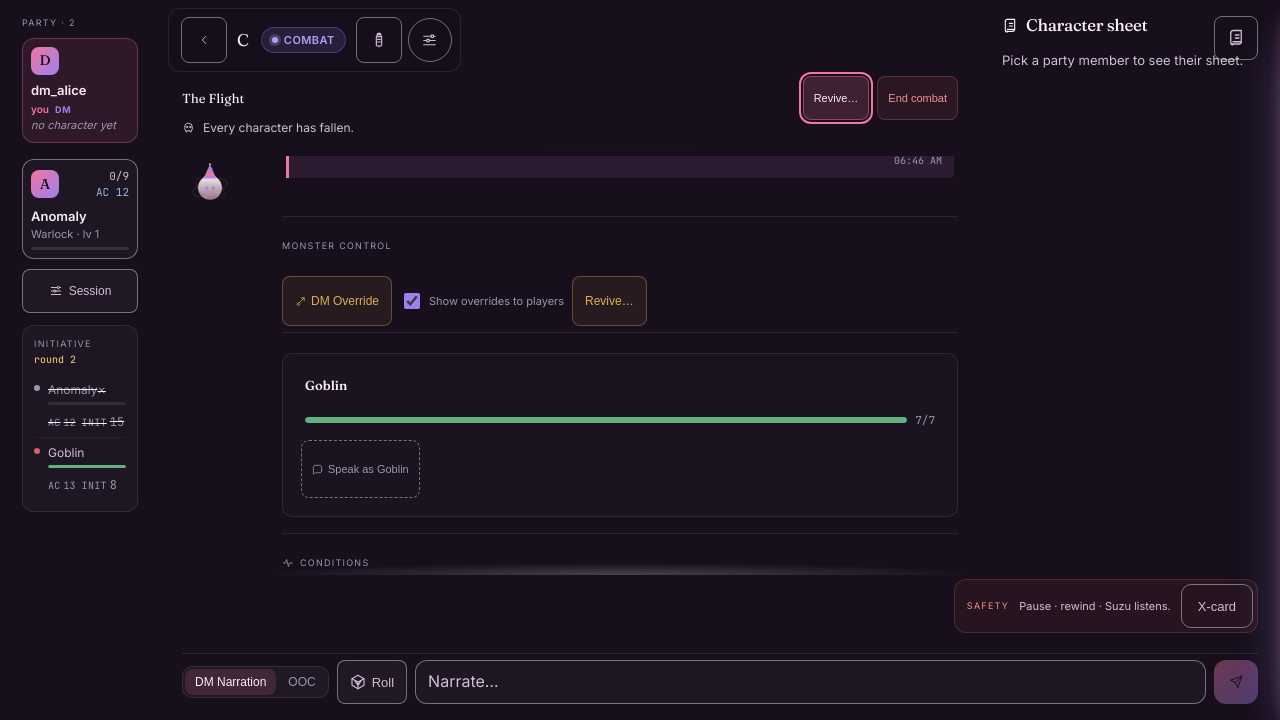
Test case: P5 the strip's Revive… opens Revive-only and returns focus to itself on Escape › opens one radio; Escape puts focus back on the strip's Revive…
(page scrolled)
Expected: the text "Every character has fallen." is shown, top-left (182, 120), bottom-right (354, 135)
Click the button "Revive…" in the row of "The Flight".
click(836, 98)  # box top-left (803, 76), bottom-right (869, 120)
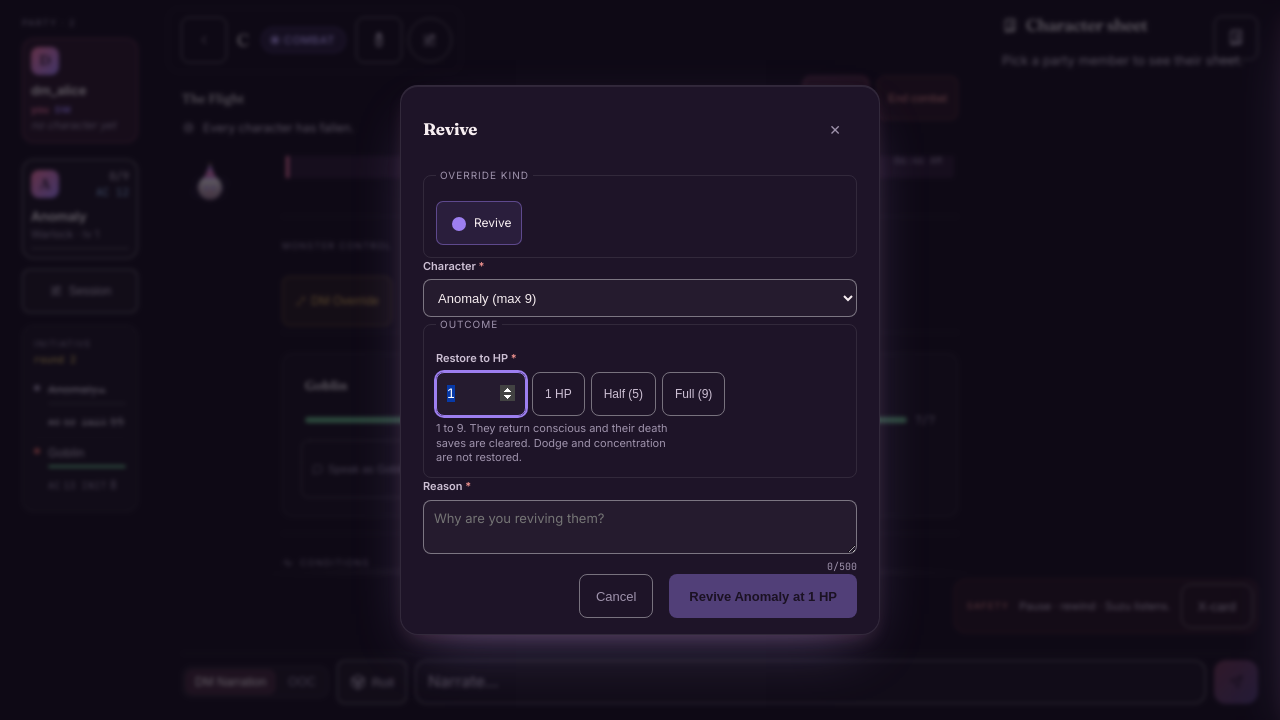
Now the number of radio buttons is 1, box top-left (452, 217), bottom-right (466, 231)
Press Escape in the dialog, box top-left (400, 85), bottom-right (880, 635)
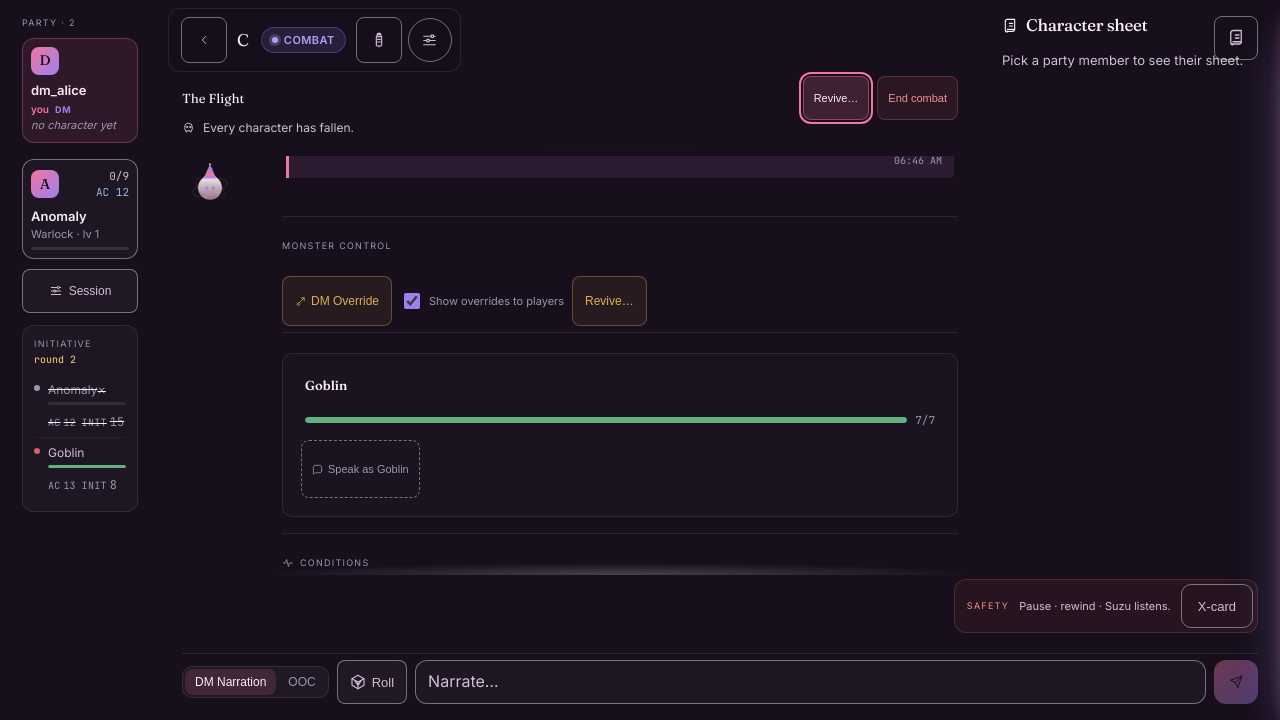
Now the dialog is gone
